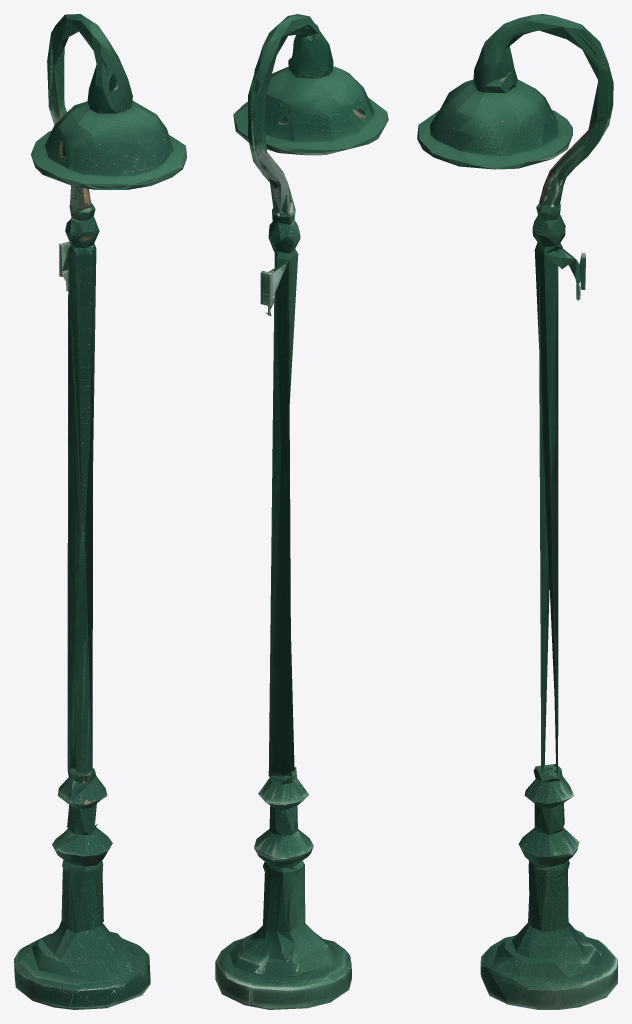
File: street_lamp.glb
3 renders of one model, left to right at view 1: azimuth 30°, elevation 25°; view 2: azimuth 150°, elevation 25°; view 3: azimuth 270°, elevation 25°, orthographic.
Size of the model in its own units: 0.2794 by 1.9 by 0.3574.
Materials: 1 (1 with a texture image).
